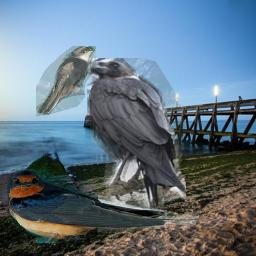Crow: (87, 58, 186, 214)
Cuckoo: (36, 46, 96, 117)
Swallow: (3, 165, 199, 243)
